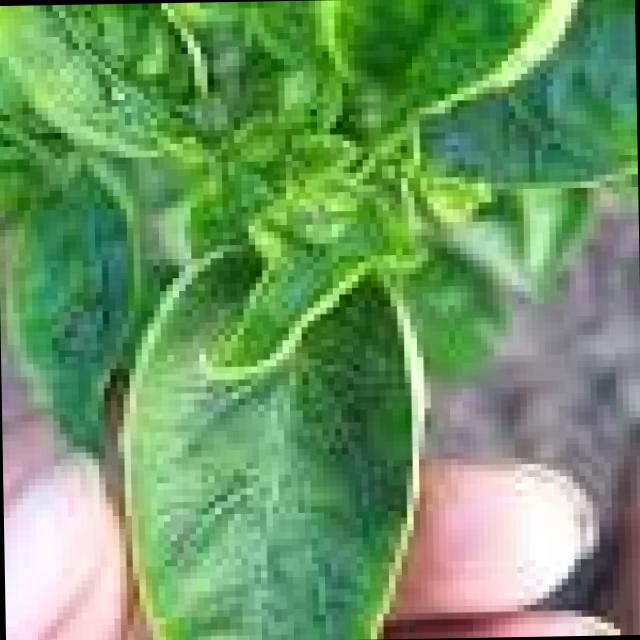Chilli_Leaf_Curl: (0, 0, 639, 639), (114, 235, 428, 637)
